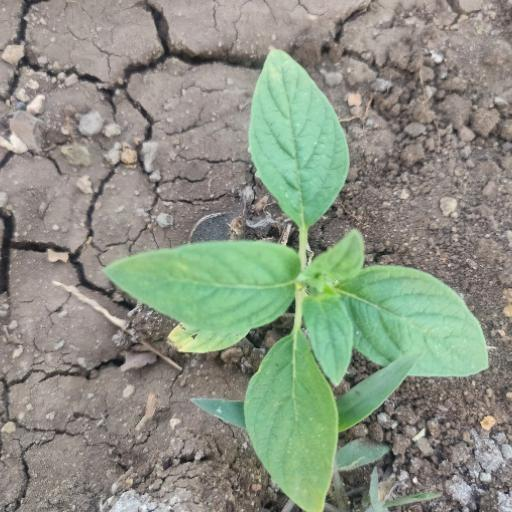crop: (98, 41, 490, 512)
